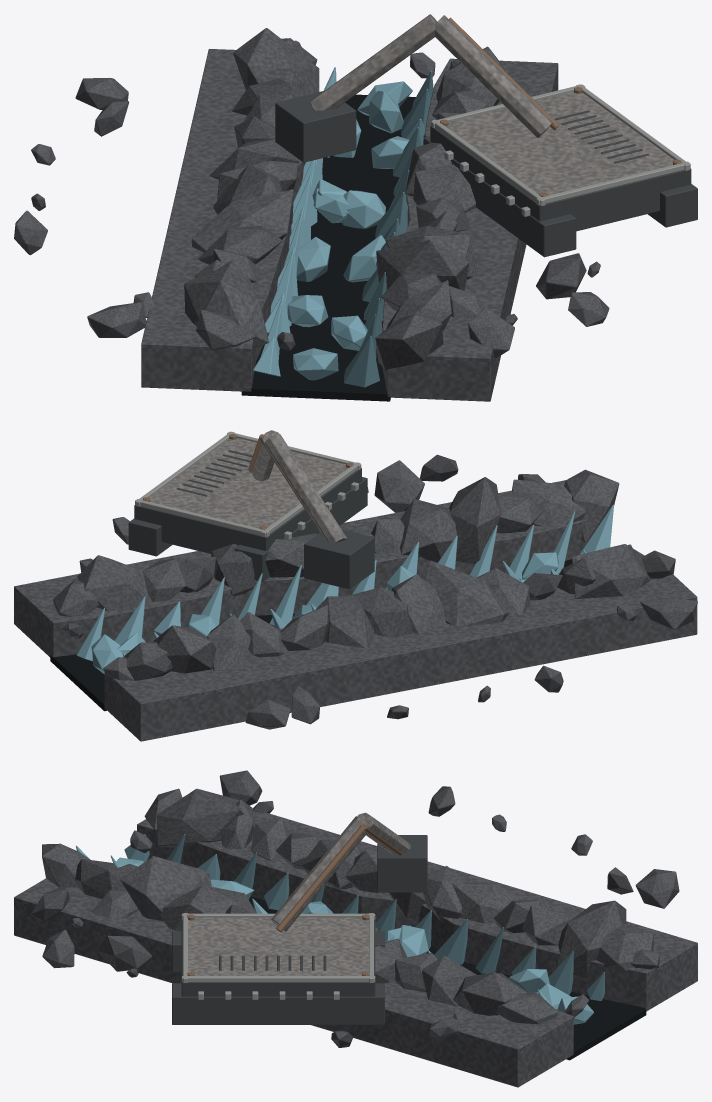
Rendered from ice-mine.glb.
3 renders of one model, top to bottom at view 1: azimuth 30°, elevation 25°; view 2: azimuth 150°, elevation 25°; view 3: azimuth 270°, elevation 25°, orthographic. The views are drawn at different scales.
Visible parts, largest first — view 1: Diagonal excavation • editable solid geometry, ice-mine • editable solid geometry; view 2: Diagonal excavation • editable solid geometry, ice-mine • editable solid geometry; view 3: Diagonal excavation • editable solid geometry, ice-mine • editable solid geometry.
Boxes of the visible parts, x1,y1,x2,y2 form: Diagonal excavation • editable solid geometry: (141, 28, 558, 401); ice-mine • editable solid geometry: (14, 14, 697, 358); Diagonal excavation • editable solid geometry: (14, 469, 697, 741); ice-mine • editable solid geometry: (62, 430, 697, 729); Diagonal excavation • editable solid geometry: (14, 788, 697, 1087); ice-mine • editable solid geometry: (31, 770, 679, 1047).
Size of the model in its own units: 8.21 by 2.74 by 8.83.
7 materials, 2 textured.
